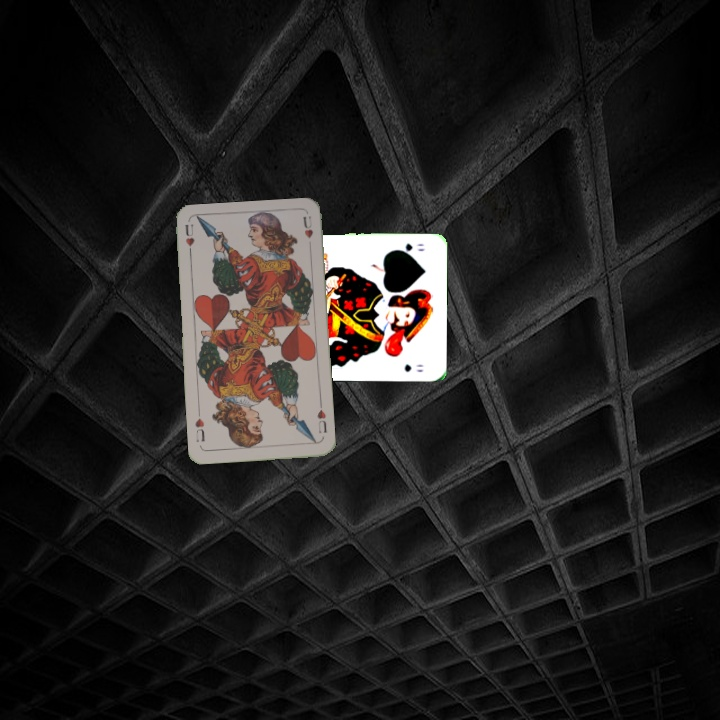GO: (390, 240, 427, 256)
HU: (181, 220, 197, 260), (313, 406, 329, 436)
